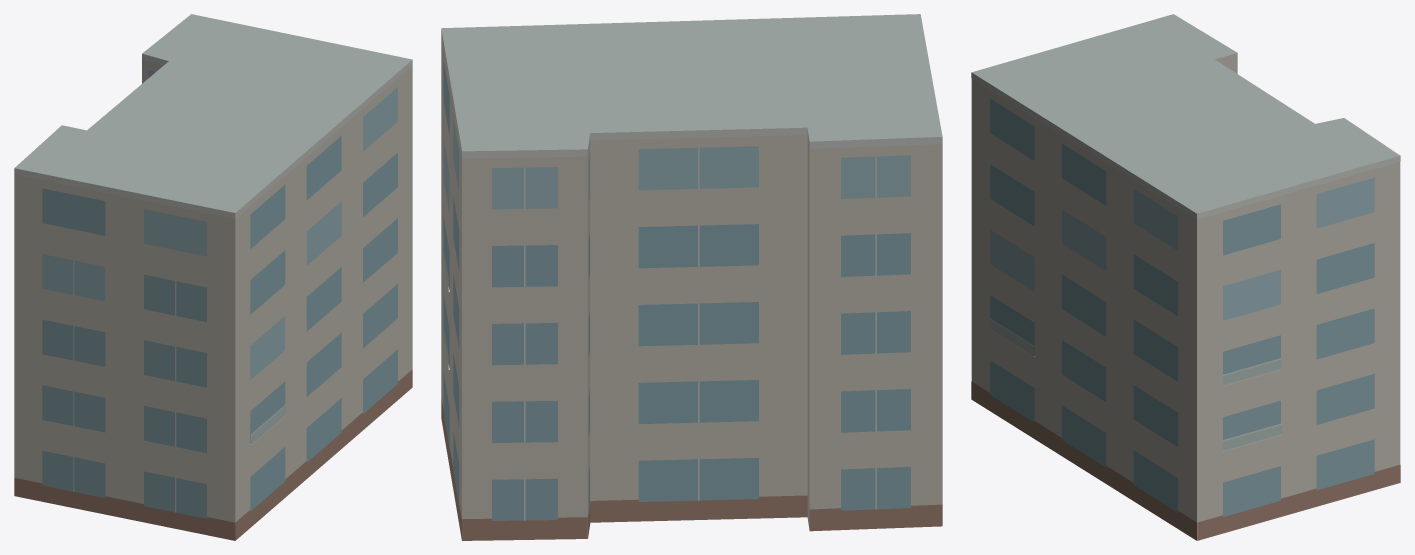
The model's file is survey-upis-32883357.glb.
The picture shows the model from 3 angles, left to right: view 1: azimuth 30°, elevation 25°; view 2: azimuth 150°, elevation 25°; view 3: azimuth 270°, elevation 25°; orthographic projection. The views are drawn at different scales.
Parts seen in each view (by area): view 1: survey-upis-32883357.tmp; view 2: survey-upis-32883357.tmp; view 3: survey-upis-32883357.tmp.
Boxes of the visible parts, bbox=[...] form: survey-upis-32883357.tmp: bbox=[14, 14, 412, 540]; survey-upis-32883357.tmp: bbox=[441, 14, 942, 540]; survey-upis-32883357.tmp: bbox=[971, 14, 1400, 540].
Size of the model in its own units: 17.16 by 13.1 by 15.57.
